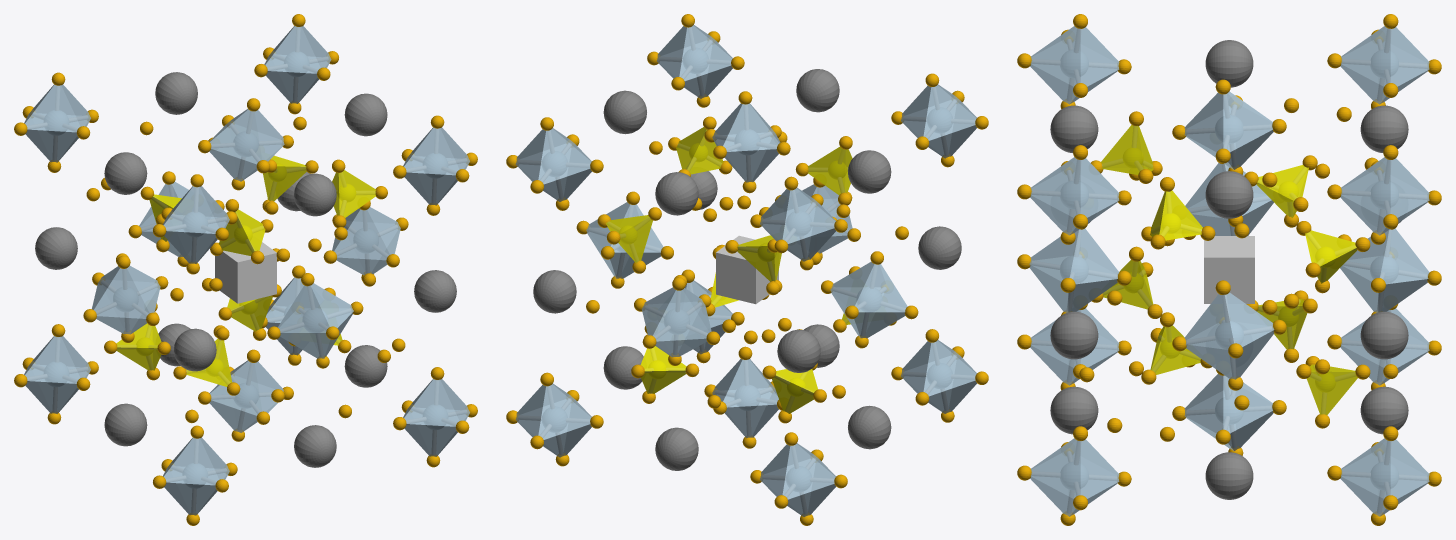
3 views of the same model, side by side, from view 1: azimuth 30°, elevation 25°; view 2: azimuth 150°, elevation 25°; view 3: azimuth 270°, elevation 25° (orthographic). The views are drawn at different scales.
Parts seen in each view (by area): view 1: Cube, Shape_IndexedFaceSet.021, Shape_IndexedFaceSet.038, Shape_IndexedFaceSet.029, Shape_IndexedFaceSet.084, Shape_IndexedFaceSet.092, Shape_IndexedFaceSet.052, Shape_IndexedFaceSet.076, Shape_IndexedFaceSet.060, Shape_IndexedFaceSet.068, Shape_IndexedFaceSet.108, Shape_IndexedFaceSet.015 (+64 smaller); view 2: Cube, Shape_IndexedFaceSet.005, Shape_IndexedFaceSet.078, Shape_IndexedFaceSet.086, Shape_IndexedFaceSet.054, Shape_IndexedFaceSet.070, Shape_IndexedFaceSet.094, Shape_IndexedFaceSet.102, Shape_IndexedFaceSet.062, Shape_IndexedFaceSet.036, Shape_IndexedFaceSet.044, Shape_IndexedFaceSet.023 (+75 smaller); view 3: Cube, Shape_IndexedFaceSet.056, Shape_IndexedFaceSet.104, Shape_IndexedFaceSet.088, Shape_IndexedFaceSet.032, Shape_IndexedFaceSet.048, Shape_IndexedFaceSet.080, Shape_IndexedFaceSet.096, atom0_IndexedFaceSet.009, atom0_IndexedFaceSet.001, atom0_IndexedFaceSet.002, atom0_IndexedFaceSet.010 (+99 smaller).
Part boxes in pixels (left/top/right/bottom): Cube: left=215, top=242, right=276, bottom=303; Shape_IndexedFaceSet.021: left=94, top=268, right=149, bottom=318; Shape_IndexedFaceSet.038: left=210, top=109, right=262, bottom=164; Shape_IndexedFaceSet.029: left=334, top=209, right=389, bottom=260; Shape_IndexedFaceSet.084: left=265, top=26, right=320, bottom=73; Shape_IndexedFaceSet.092: left=404, top=127, right=459, bottom=175; Shape_IndexedFaceSet.052: left=25, top=84, right=80, bottom=132; Shape_IndexedFaceSet.076: left=164, top=437, right=219, bottom=485; Shape_IndexedFaceSet.060: left=163, top=186, right=218, bottom=233; Shape_IndexedFaceSet.068: left=25, top=336, right=80, bottom=383; Shape_IndexedFaceSet.108: left=404, top=379, right=459, bottom=426; Shape_IndexedFaceSet.015: left=278, top=285, right=329, bottom=332; Cube: left=716, top=235, right=778, bottom=304; Shape_IndexedFaceSet.005: left=653, top=290, right=709, bottom=341; Shape_IndexedFaceSet.078: left=923, top=340, right=976, bottom=396; Shape_IndexedFaceSet.086: left=538, top=128, right=591, bottom=184; Shape_IndexedFaceSet.054: left=782, top=188, right=835, bottom=243; Shape_IndexedFaceSet.070: left=782, top=443, right=835, bottom=499; Shape_IndexedFaceSet.094: left=679, top=25, right=732, bottom=81; Shape_IndexedFaceSet.102: left=538, top=384, right=591, bottom=439; Shape_IndexedFaceSet.062: left=923, top=85, right=976, bottom=140; Shape_IndexedFaceSet.036: left=723, top=103, right=779, bottom=151; Shape_IndexedFaceSet.044: left=723, top=359, right=778, bottom=407; Shape_IndexedFaceSet.023: left=855, top=264, right=907, bottom=312; Cube: left=1204, top=236, right=1254, bottom=303; Shape_IndexedFaceSet.056: left=1030, top=26, right=1080, bottom=86; Shape_IndexedFaceSet.104: left=1031, top=438, right=1080, bottom=498; Shape_IndexedFaceSet.088: left=1031, top=157, right=1080, bottom=217; Shape_IndexedFaceSet.032: left=1223, top=91, right=1272, bottom=152; Shape_IndexedFaceSet.048: left=1341, top=26, right=1390, bottom=86; Shape_IndexedFaceSet.080: left=1341, top=157, right=1390, bottom=217; Shape_IndexedFaceSet.096: left=1341, top=438, right=1390, bottom=498; atom0_IndexedFaceSet.009: left=1205, top=452, right=1253, bottom=499; atom0_IndexedFaceSet.001: left=1050, top=311, right=1098, bottom=359; atom0_IndexedFaceSet.002: left=1360, top=311, right=1408, bottom=359; atom0_IndexedFaceSet.010: left=1205, top=171, right=1253, bottom=218.
Size of the model in its own units: 1667 by 1667 by 1667.
